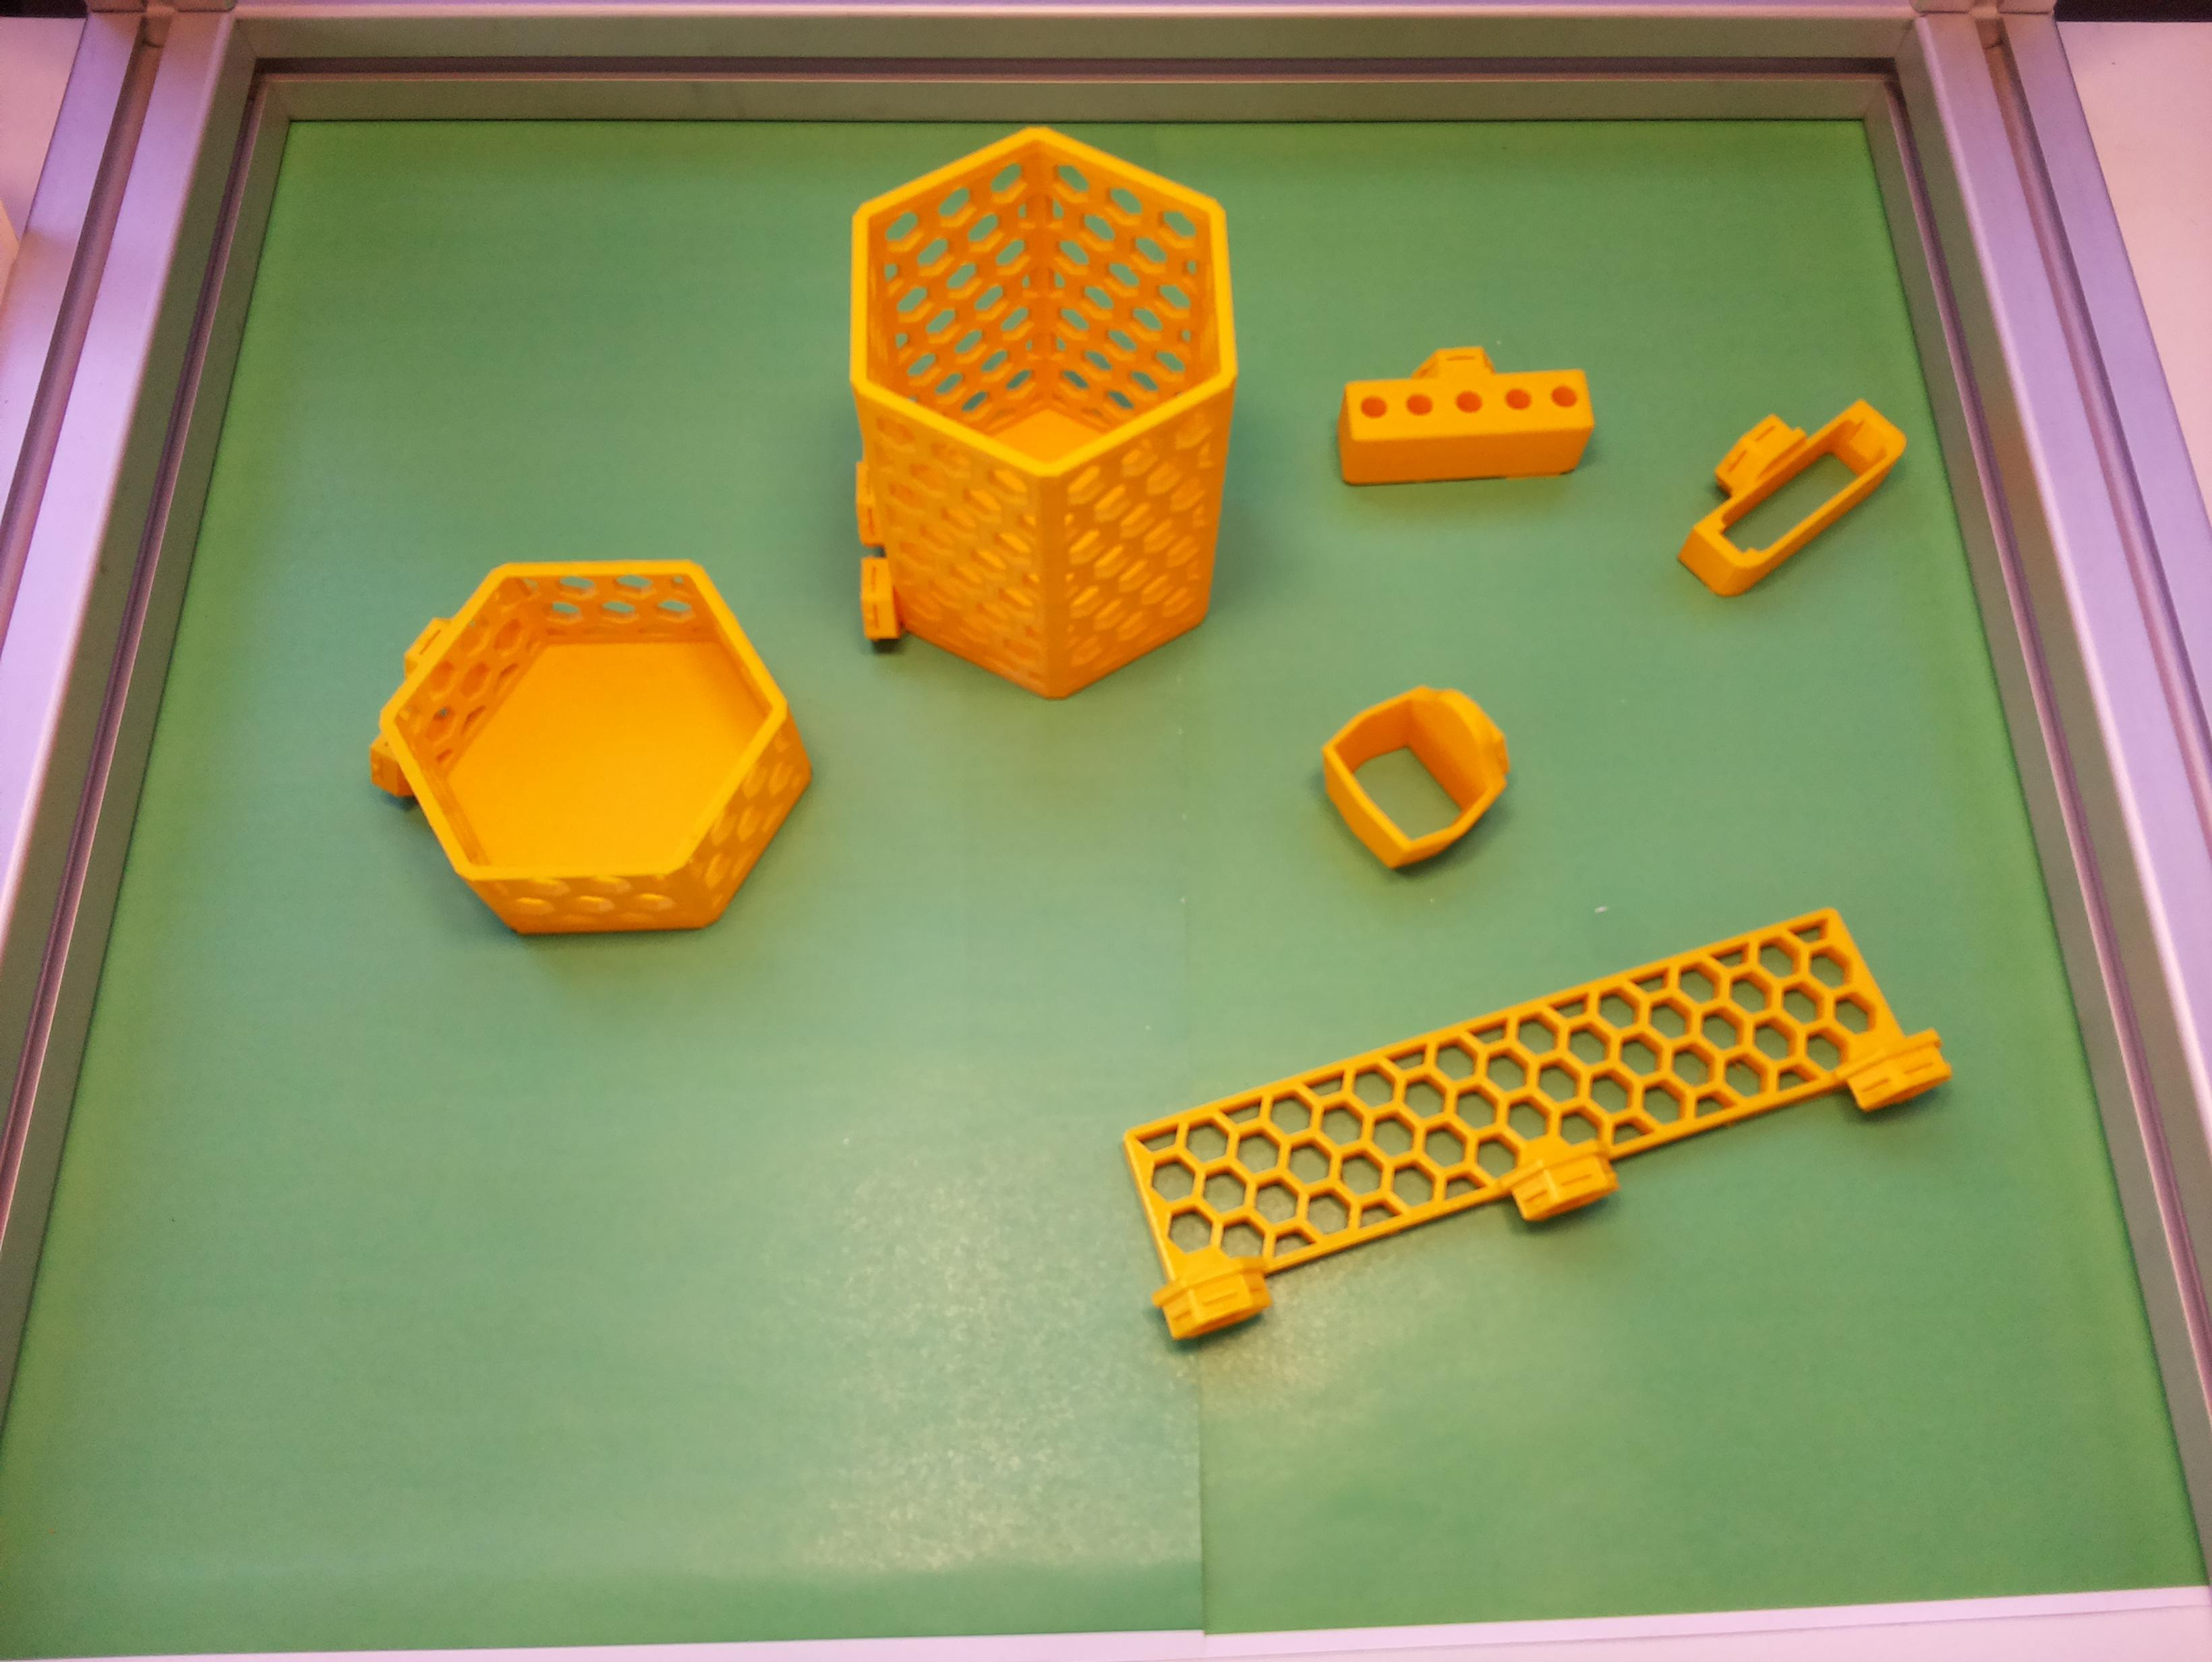bit_holder: (1336, 342, 1596, 485)
bottle_holder: (321, 463, 883, 1027)
cup_holder: (843, 120, 1248, 705)
cutter_holder: (1643, 358, 1920, 611)
scissor_holder: (1299, 653, 1536, 887)
tool_holder: (1100, 876, 1955, 1346)
